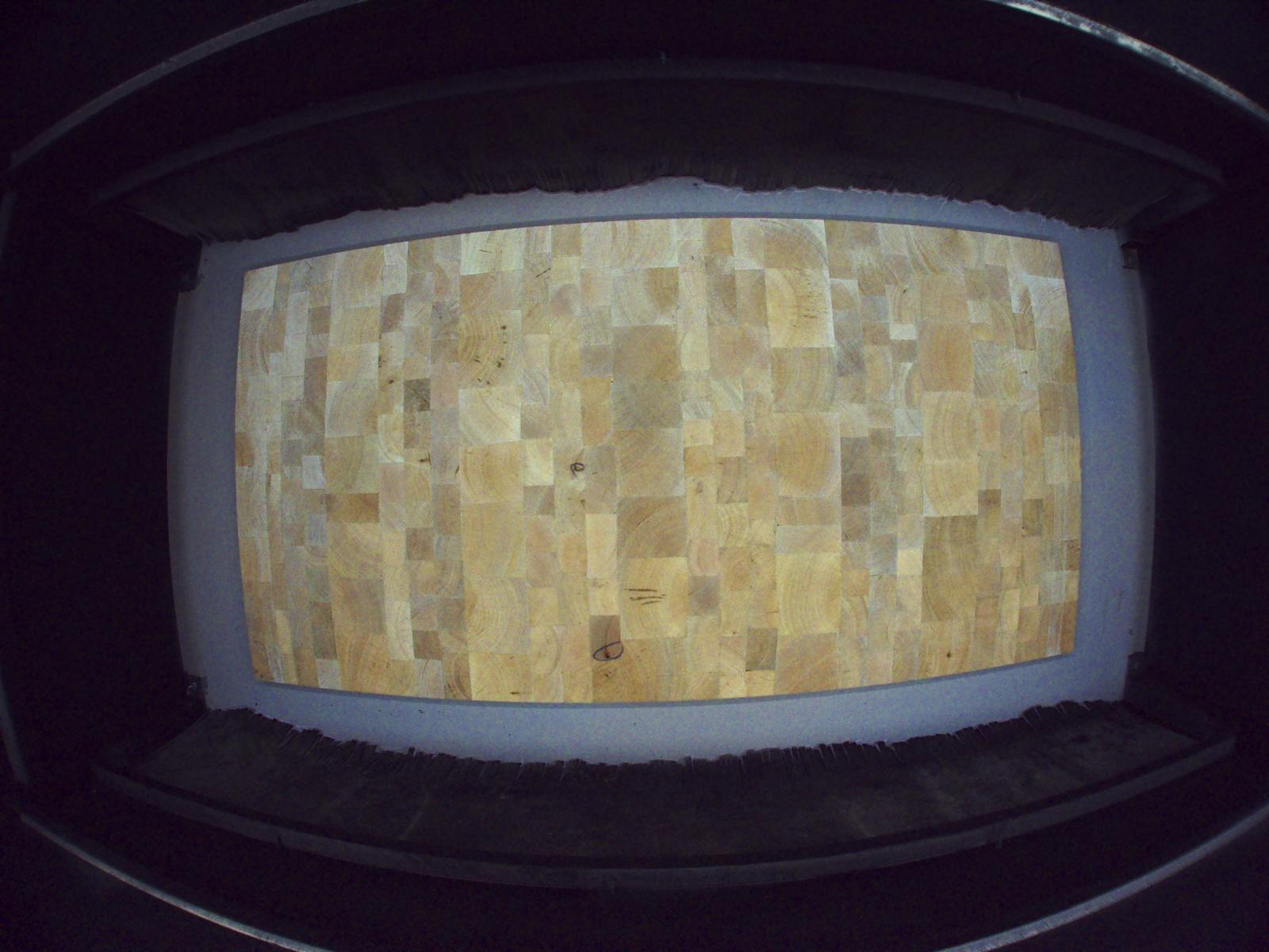sheck_ecuatoriano: (603, 615, 616, 659), (572, 447, 587, 480)
